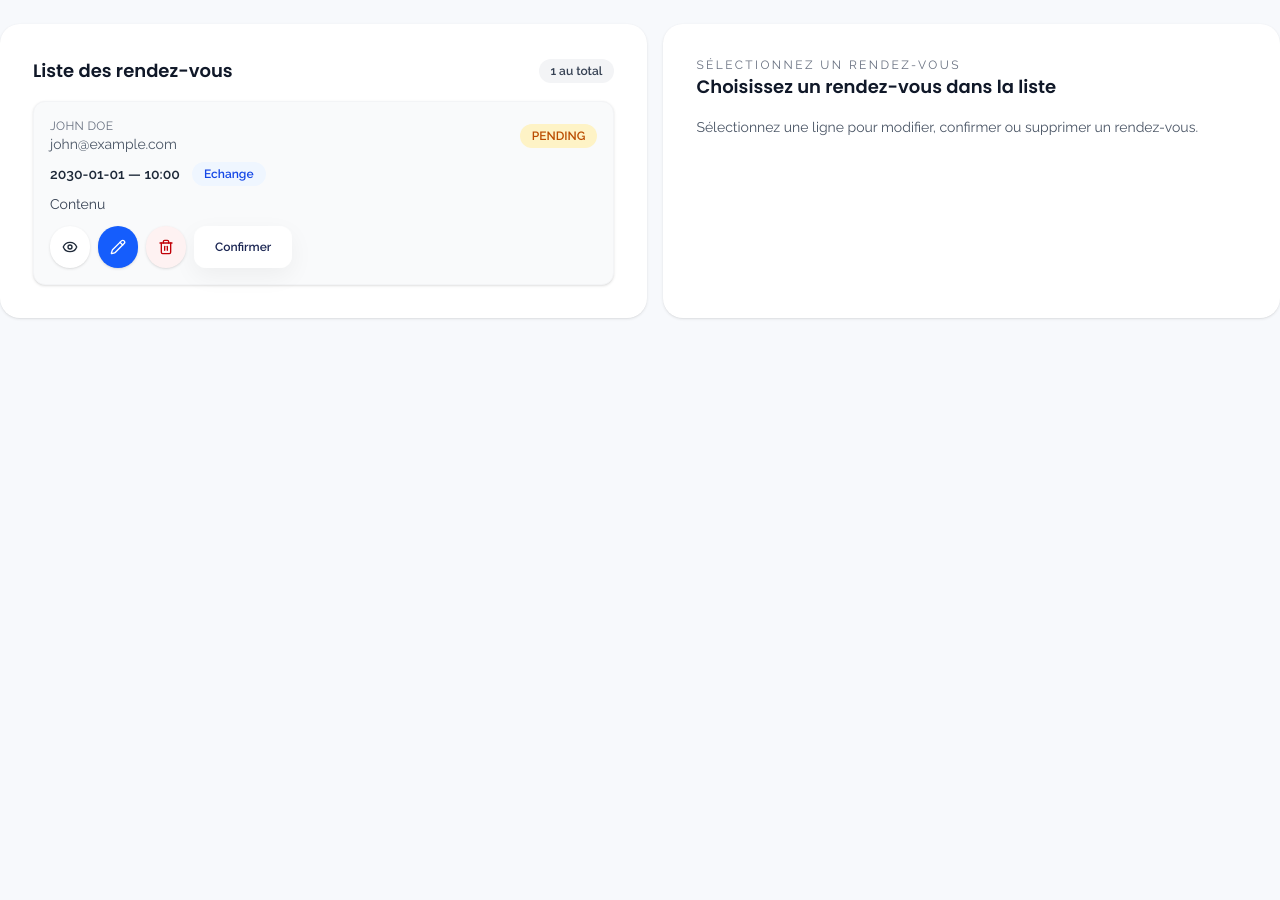
Scenario: ConfirmModal delete flows across dashboard lists › rendezvous list confirm modal closes after delete
The width and height of the screenshot is (1280, 900).
Step 1. Click the button named "supprimer" → click(166, 247), box [146,226,186,268]
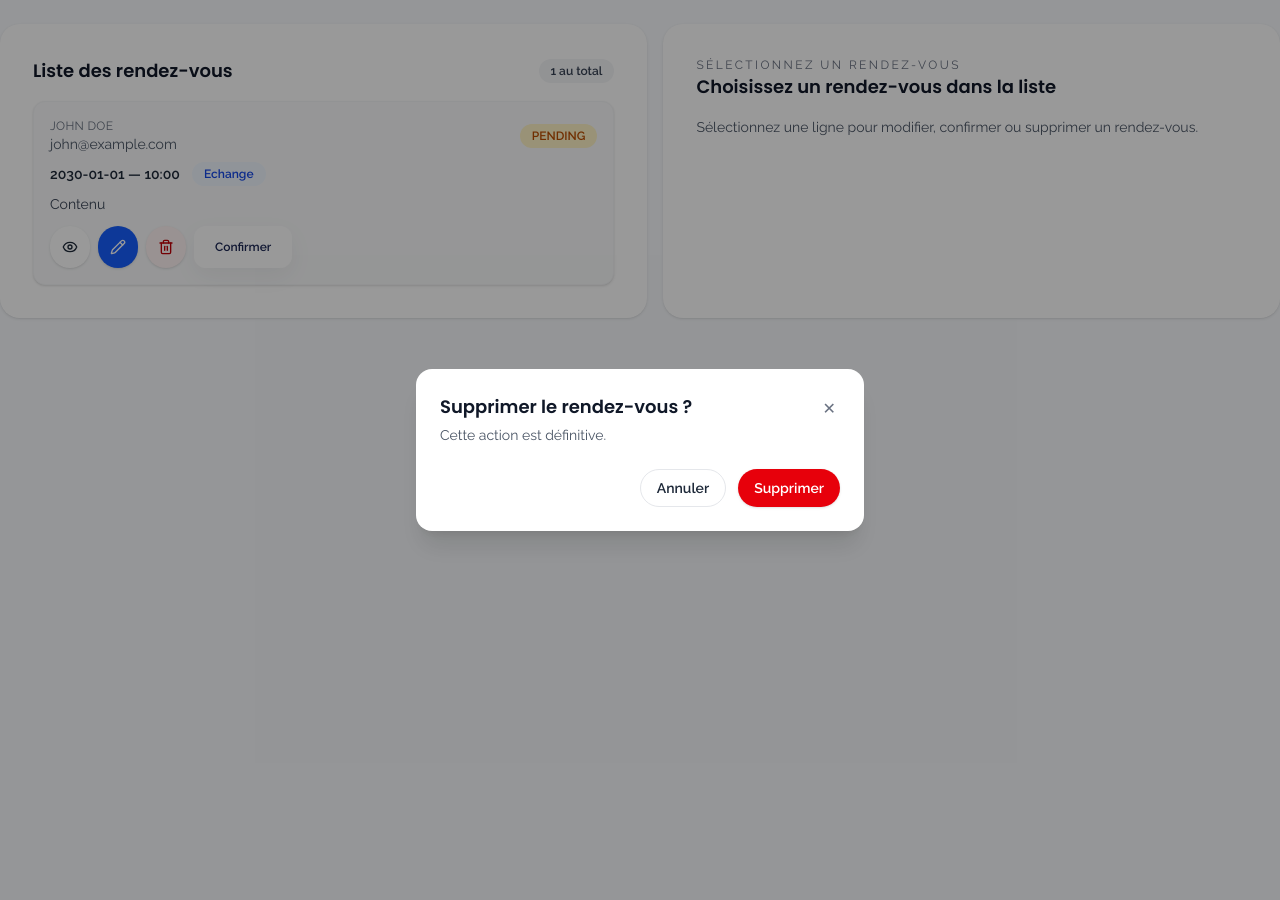
Now the heading "Supprimer le rendez-vous ?" is shown, box [440,393,692,421]
Step 2. Click the button "Supprimer" → click(789, 488), box [738,469,840,507]
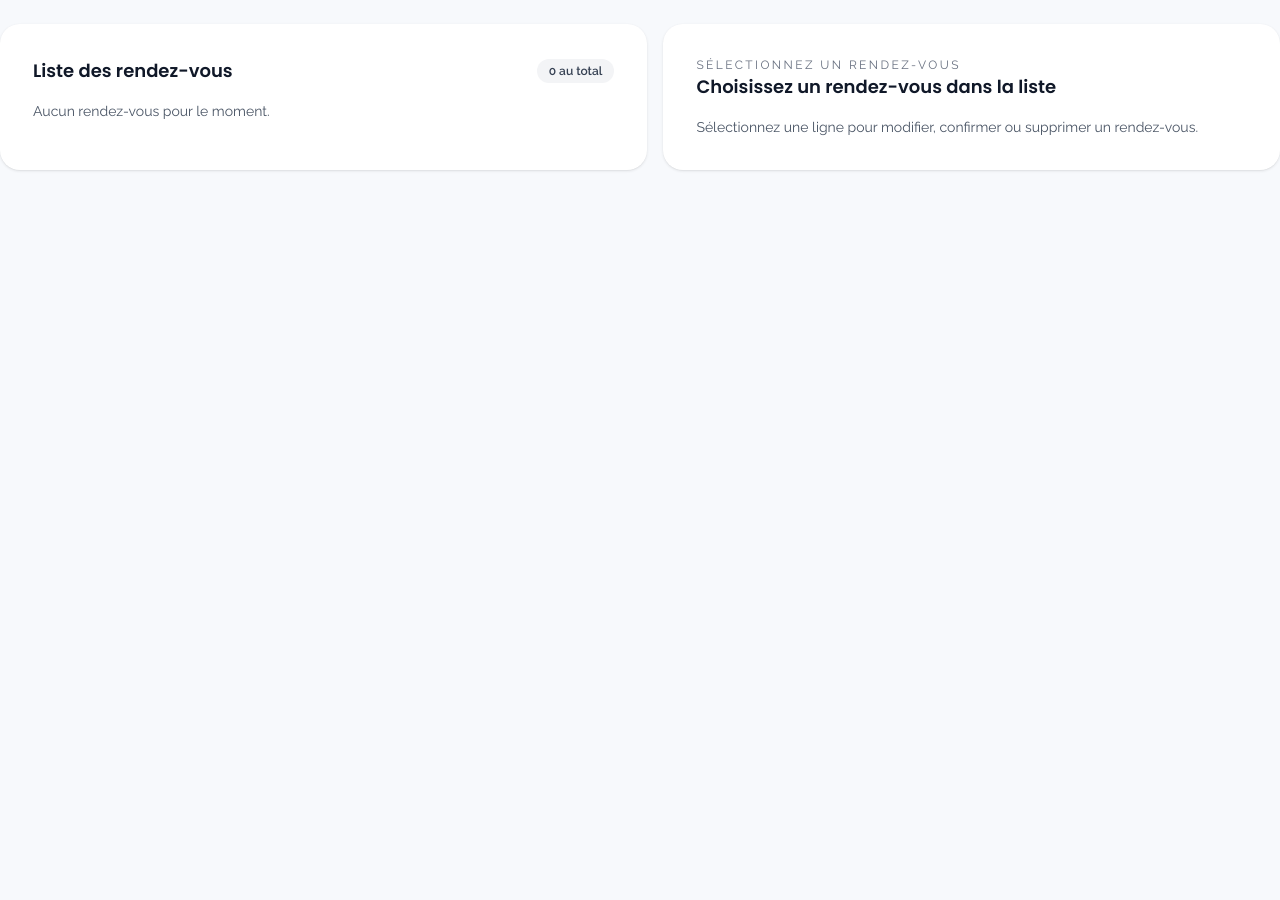
Now the heading "Supprimer le rendez-vous" is gone
